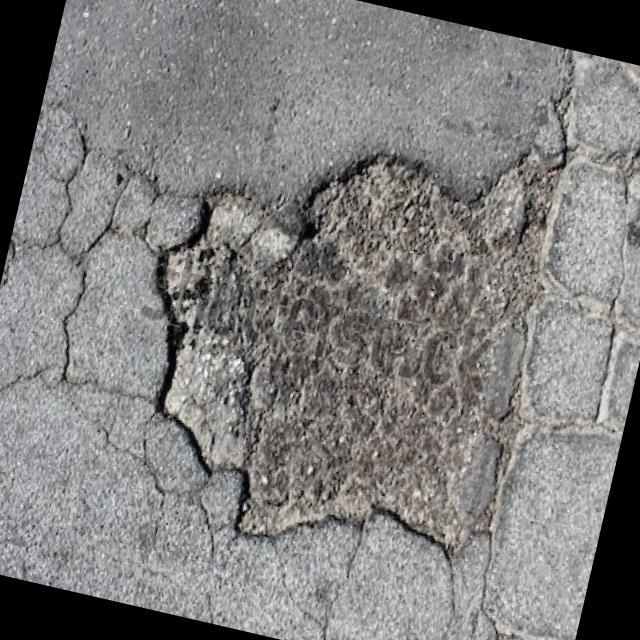Pothole: (90, 84, 594, 602)
